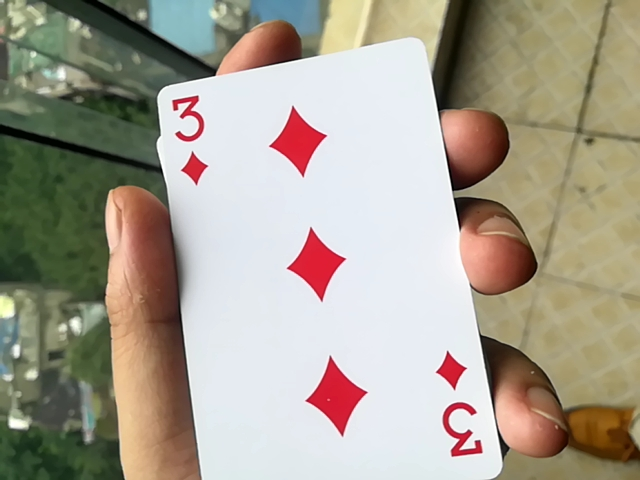fk 3: (117, 38, 507, 474)
